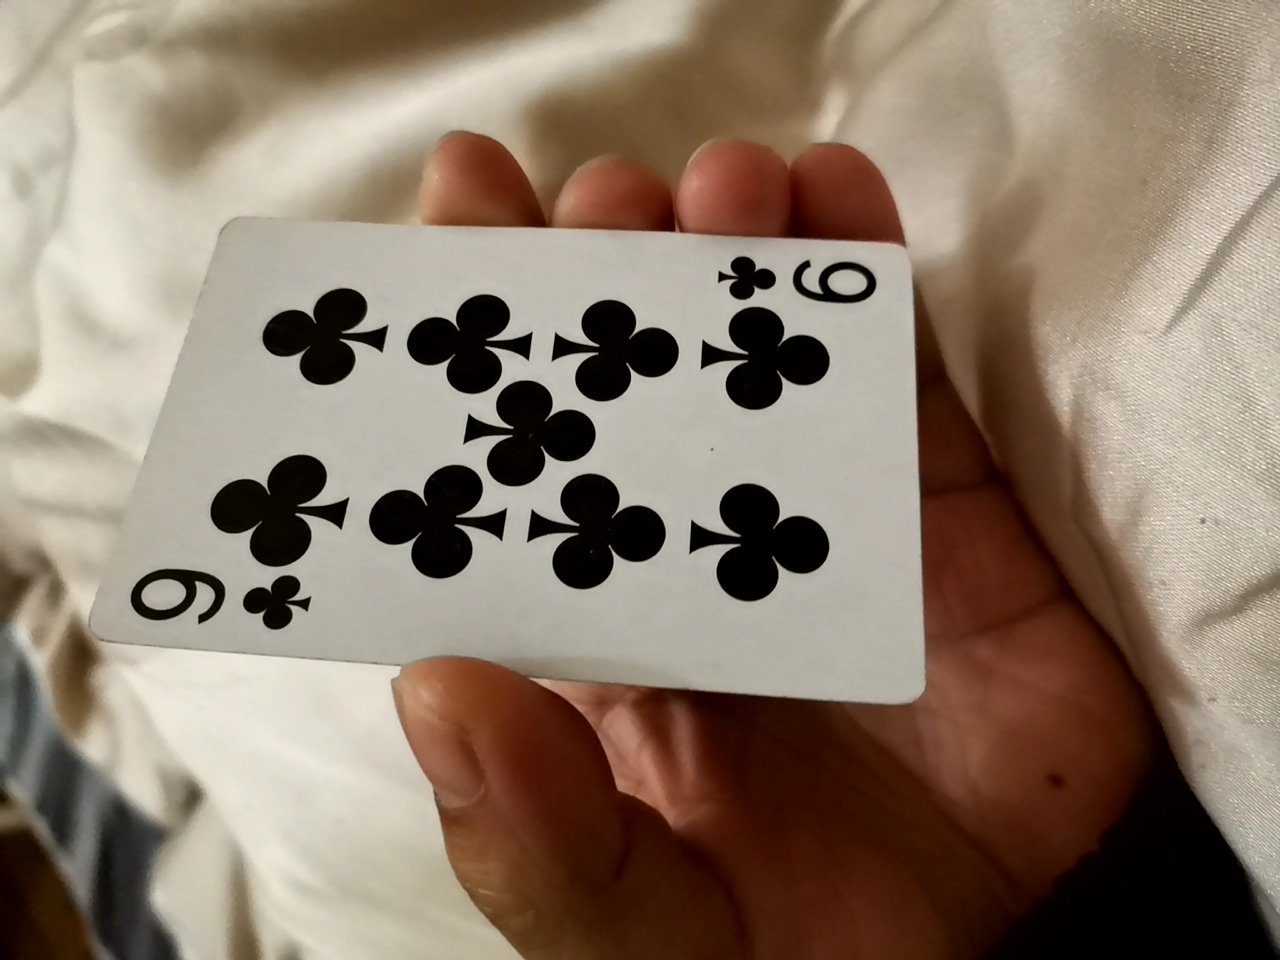mh 9: (127, 223, 935, 715)
